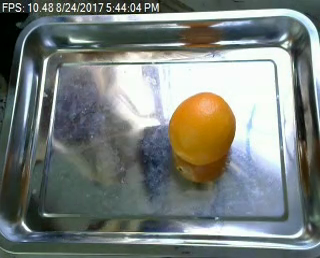Orange: (167, 91, 237, 165)
